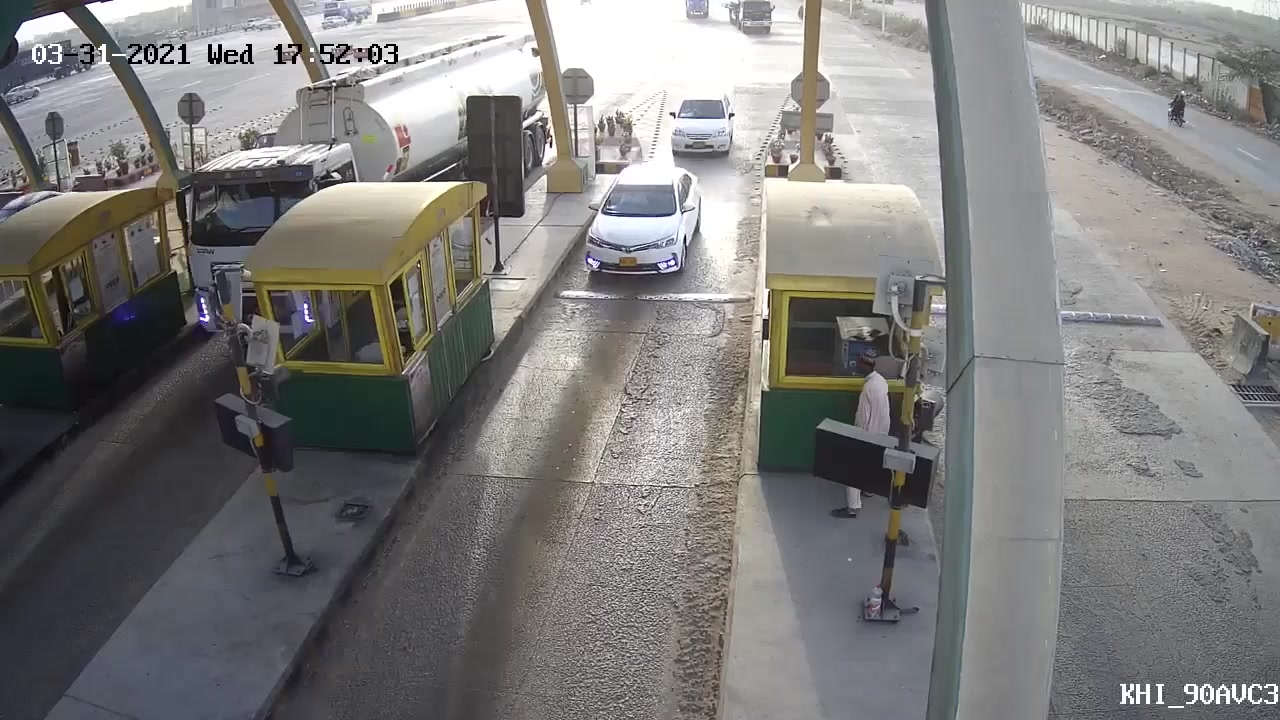F1: (570, 165, 705, 291)
